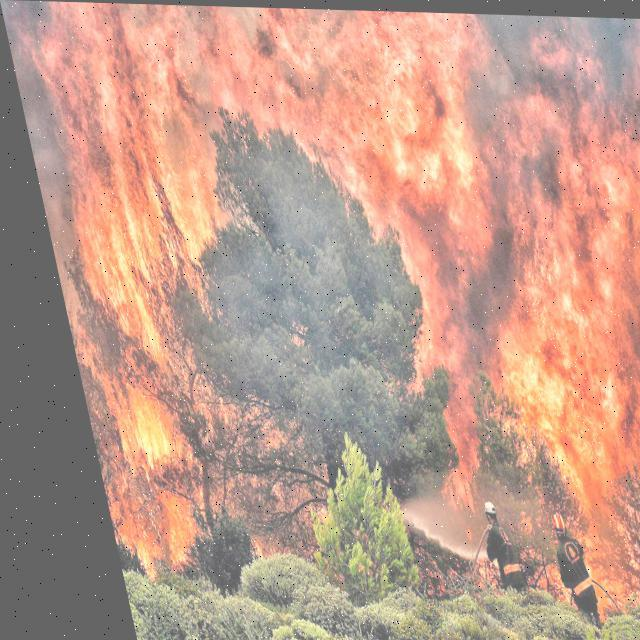Fire: (7, 8, 639, 626)
